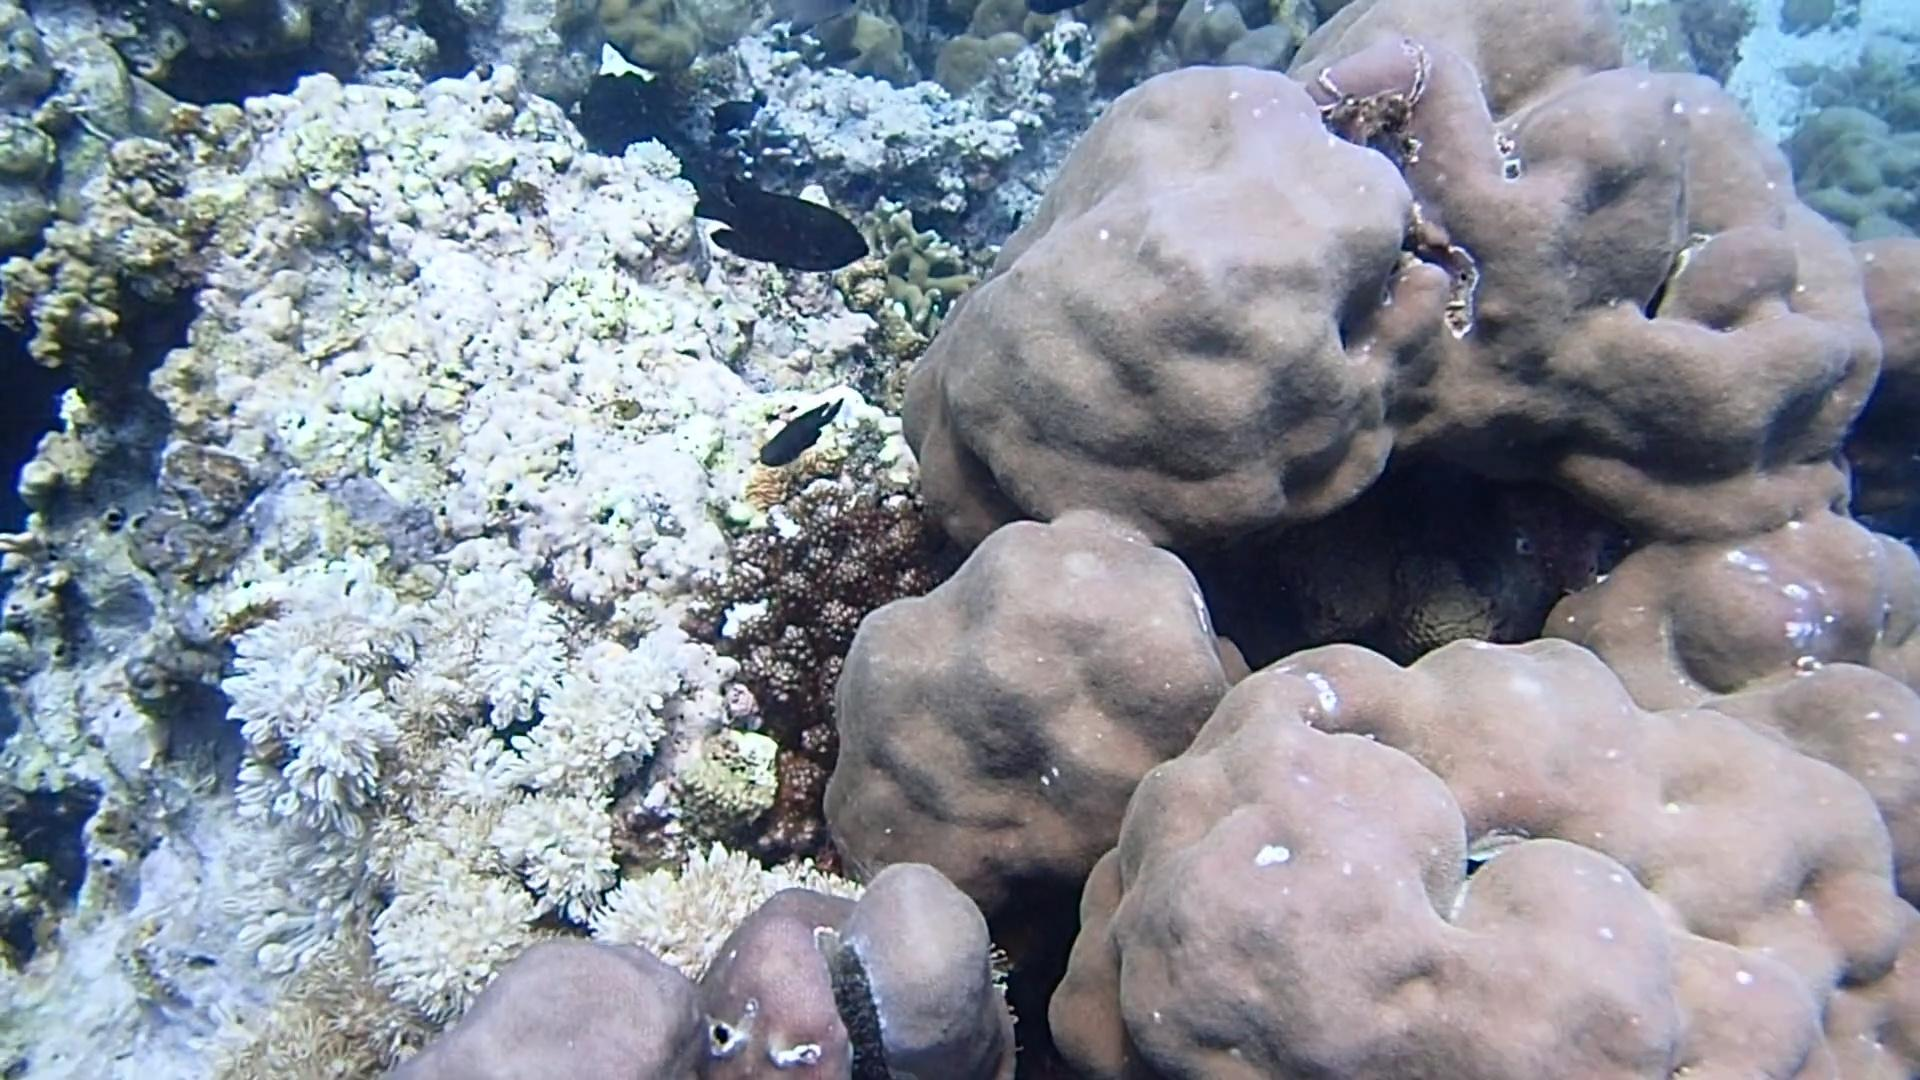Dark Fish: (684, 164, 884, 284), (752, 393, 848, 476), (703, 95, 767, 140)
